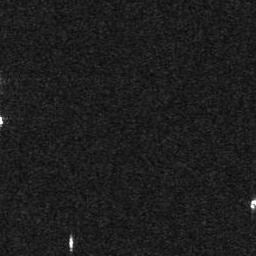ship: (68, 234, 74, 251)
